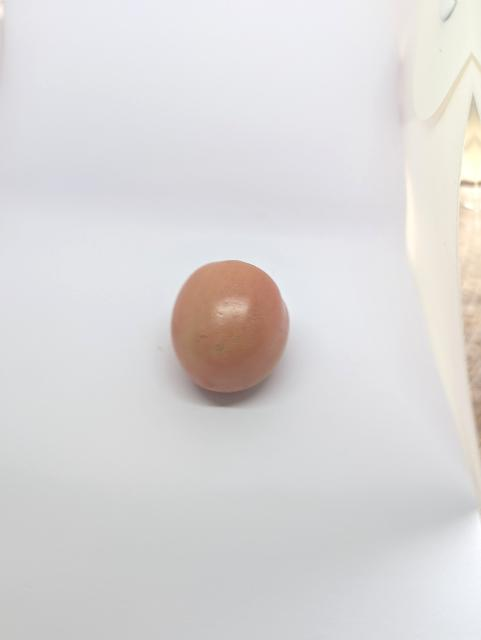turning: (170, 254, 308, 409)
